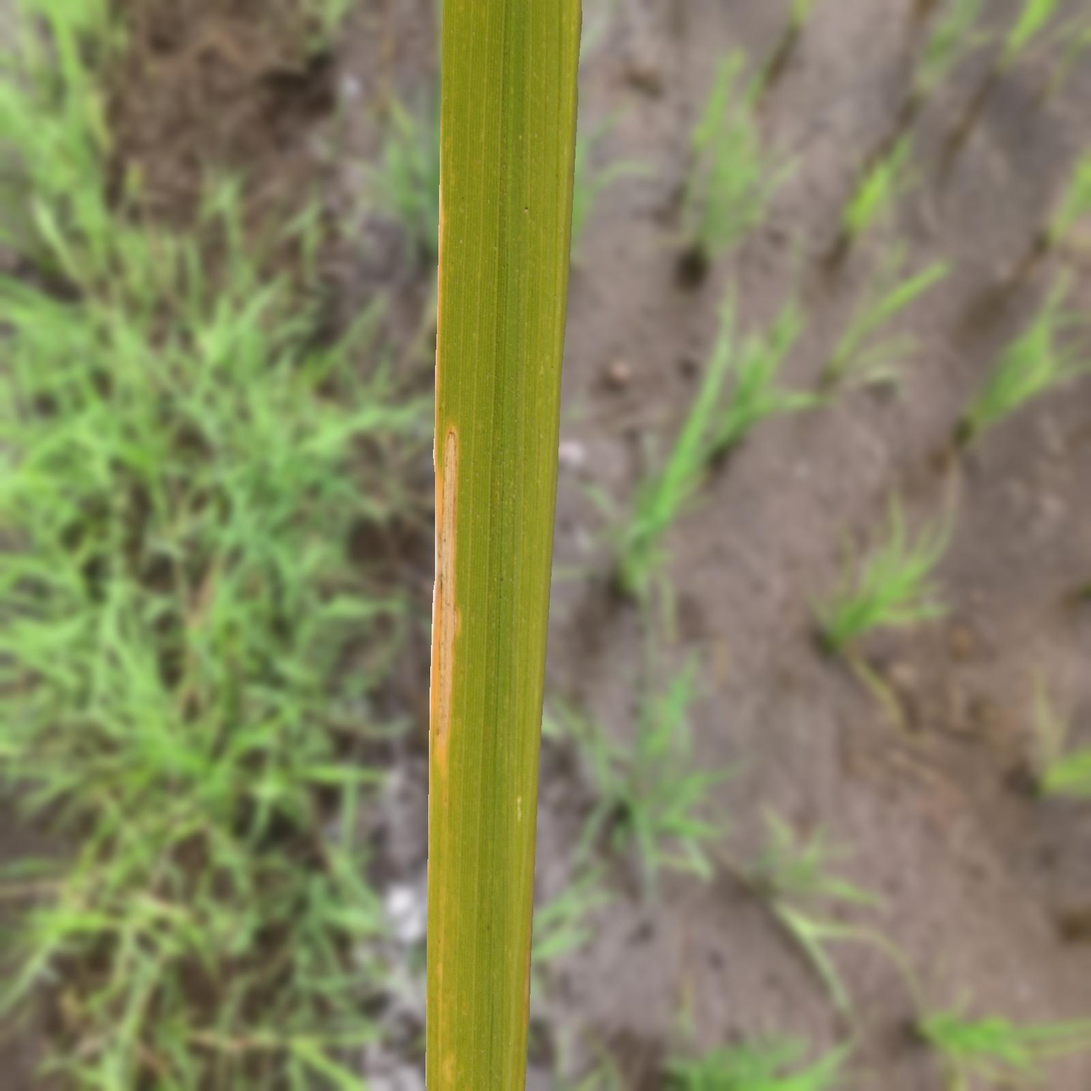BLS: (431, 167, 462, 810), (429, 747, 434, 810)
LEAF: (425, 0, 582, 1090)
